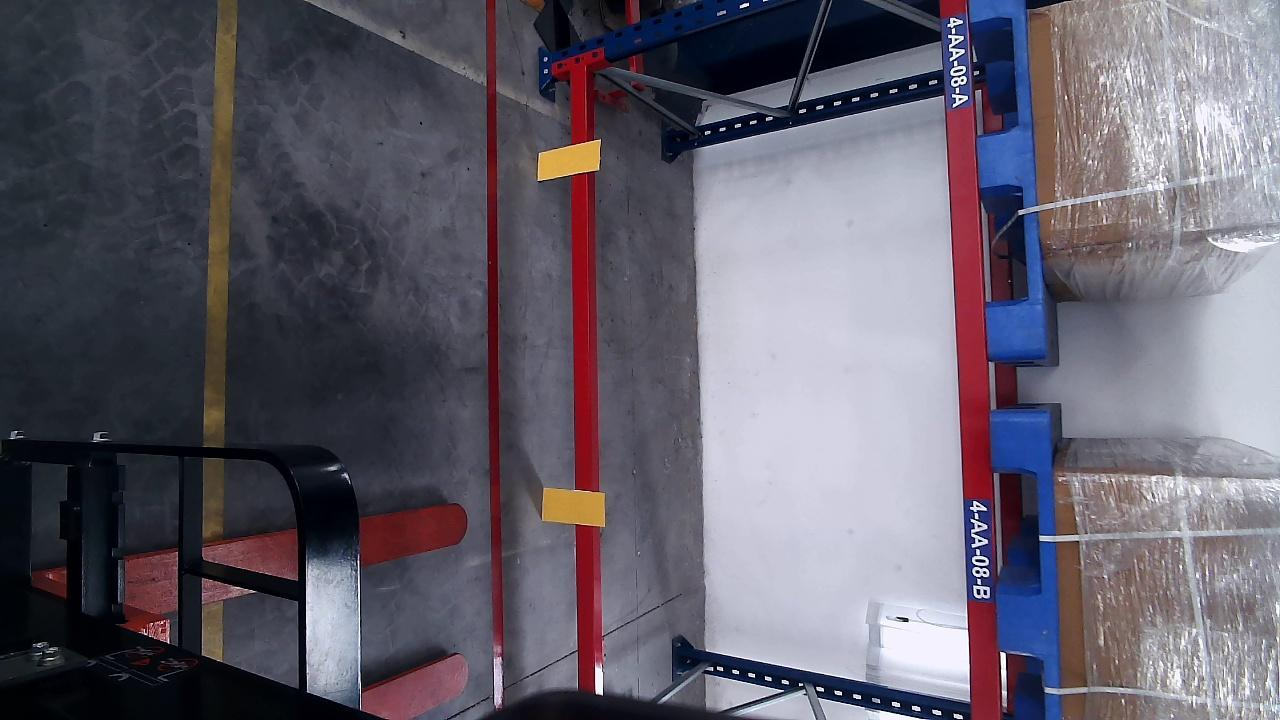h_rack: (940, 0, 1002, 720), (569, 67, 600, 693)
orange_strip: (537, 140, 600, 183), (542, 489, 604, 527)
red_line: (487, 2, 504, 709)
small_pallet: (966, 2, 1050, 359), (991, 416, 1062, 716)
yellow_line: (204, 0, 237, 443)
